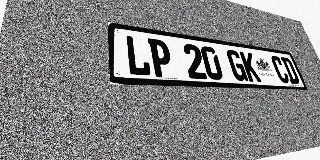0: (200, 46, 224, 80)
2: (182, 43, 207, 79)
C: (270, 55, 291, 83)
D: (280, 57, 301, 84)
G: (225, 49, 249, 81)
K: (239, 51, 262, 82)
L: (125, 35, 152, 77)
P: (148, 38, 174, 78)
